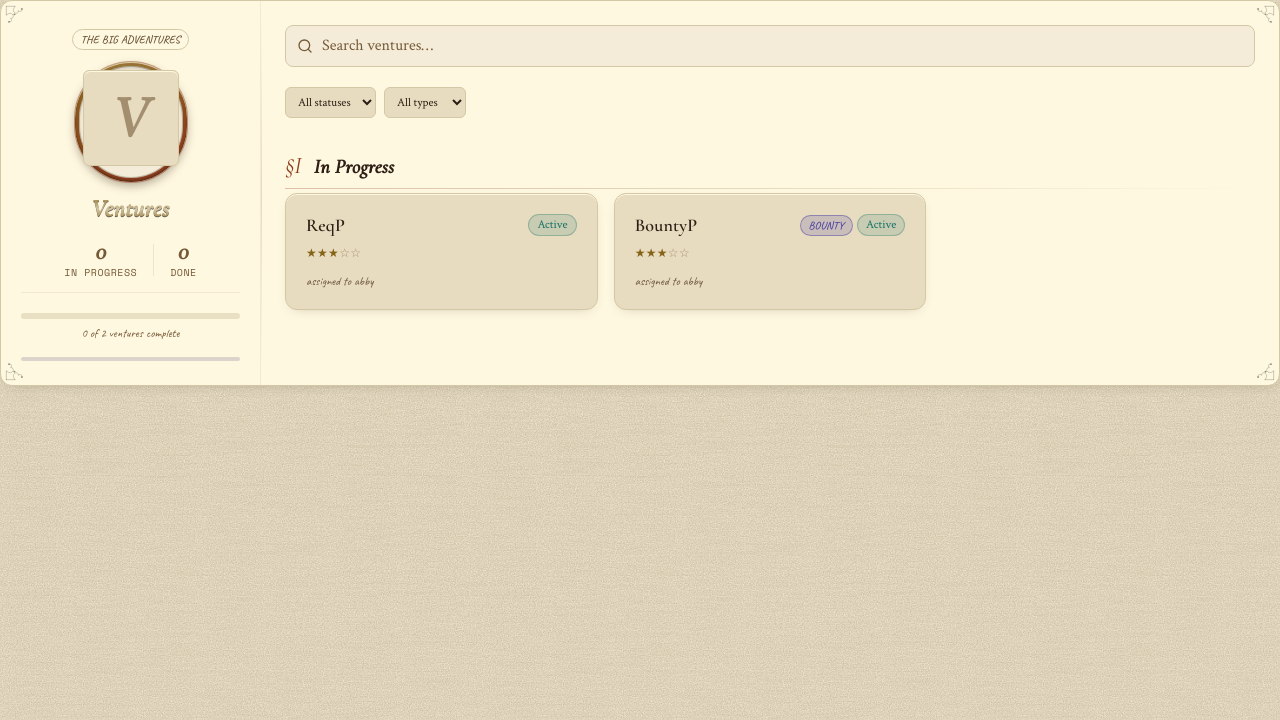
it: Projects › filters by type
Check: the heading "ReqP" is shown, box [306, 214, 345, 236]
Select "Bounty" in the dropdown named "Filter by type" at (425, 102), box [384, 87, 466, 118]
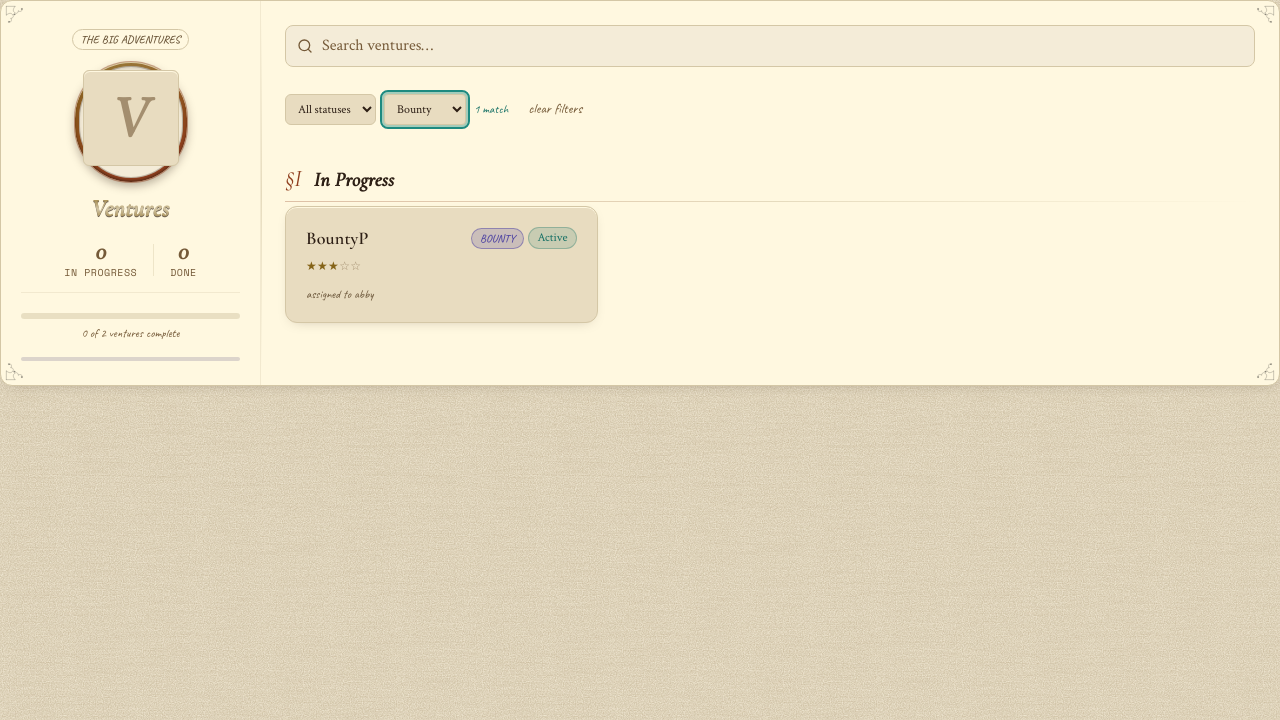
Check: the heading "BountyP" is shown, box [306, 227, 369, 250]
Check: the button "ReqP" is gone
